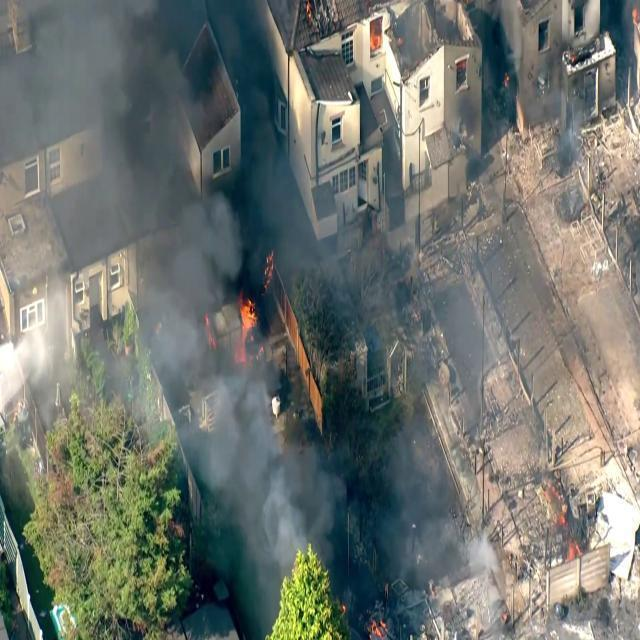Fire: (234, 275, 265, 342)
Smoke: (242, 416, 327, 574)
